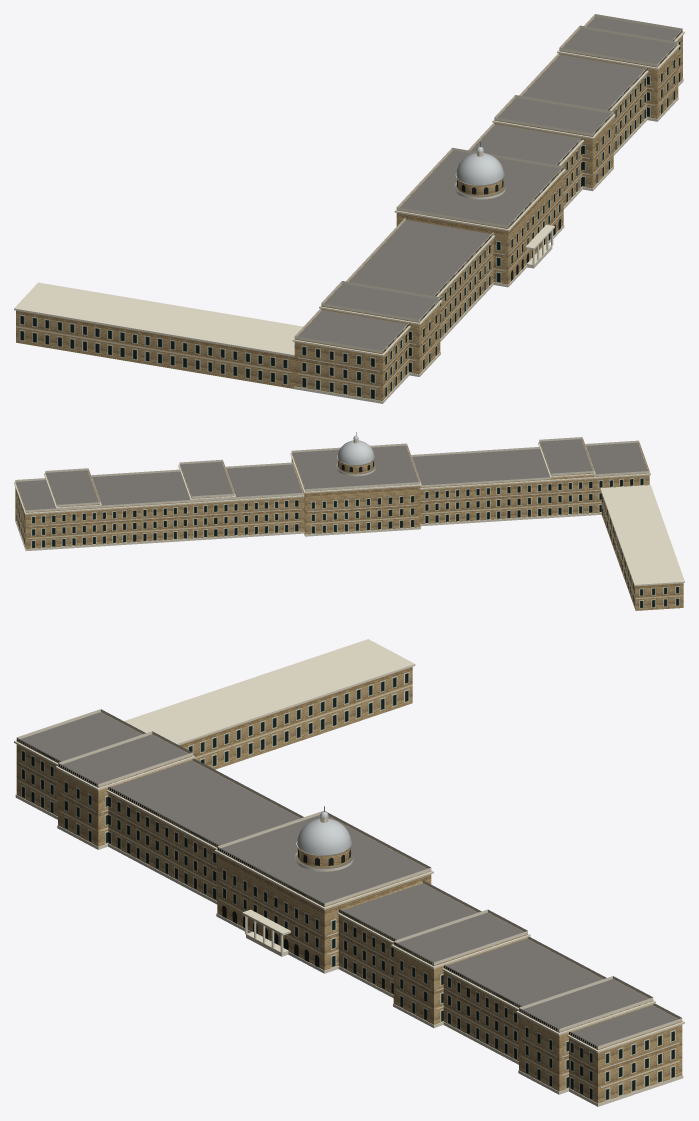
File: raseltin.glb
The picture shows the model from 3 angles, top to bottom: view 1: azimuth 30°, elevation 25°; view 2: azimuth 150°, elevation 25°; view 3: azimuth 270°, elevation 25°; orthographic projection. The views are drawn at different scales.
Parts seen in each view (by area): view 1: RasElTinPalace; view 2: RasElTinPalace; view 3: RasElTinPalace.
Boxes of the visible parts, left/top/right/bottom form: RasElTinPalace: left=14, top=14, right=684, bottom=403; RasElTinPalace: left=14, top=432, right=684, bottom=610; RasElTinPalace: left=14, top=639, right=684, bottom=1106.
Bounding box in the file's own units: 283 × 37.1 × 187.
2 materials, 2 textured.
